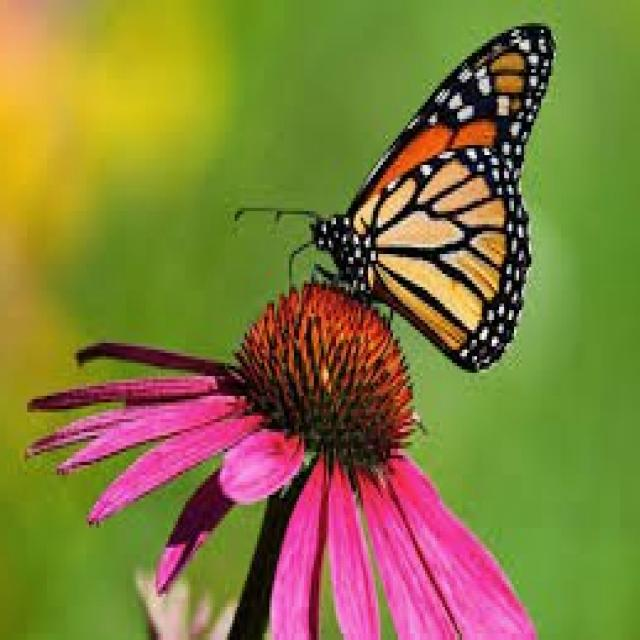butterfly: (314, 23, 554, 369)
